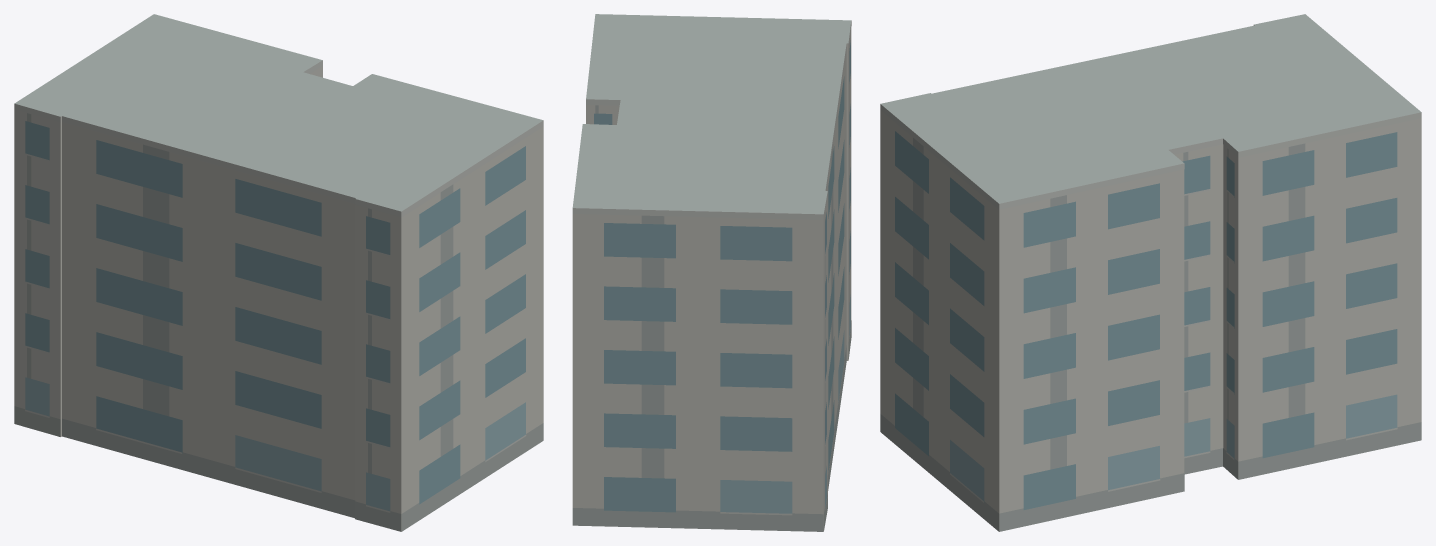
The model's file is survey-upis-32836560.glb.
The picture shows the model from 3 angles, left to right: view 1: azimuth 30°, elevation 25°; view 2: azimuth 150°, elevation 25°; view 3: azimuth 270°, elevation 25°; orthographic projection. The views are drawn at different scales.
Visible parts, largest first — view 1: survey-upis-32836560.tmp; view 2: survey-upis-32836560.tmp; view 3: survey-upis-32836560.tmp.
Boxes of the visible parts, left/top/right/bottom form: survey-upis-32836560.tmp: left=14, top=14, right=543, bottom=531; survey-upis-32836560.tmp: left=572, top=14, right=851, bottom=531; survey-upis-32836560.tmp: left=880, top=14, right=1421, bottom=531.
Bounding box in the file's own units: 16.49 × 13.28 × 19.87.
